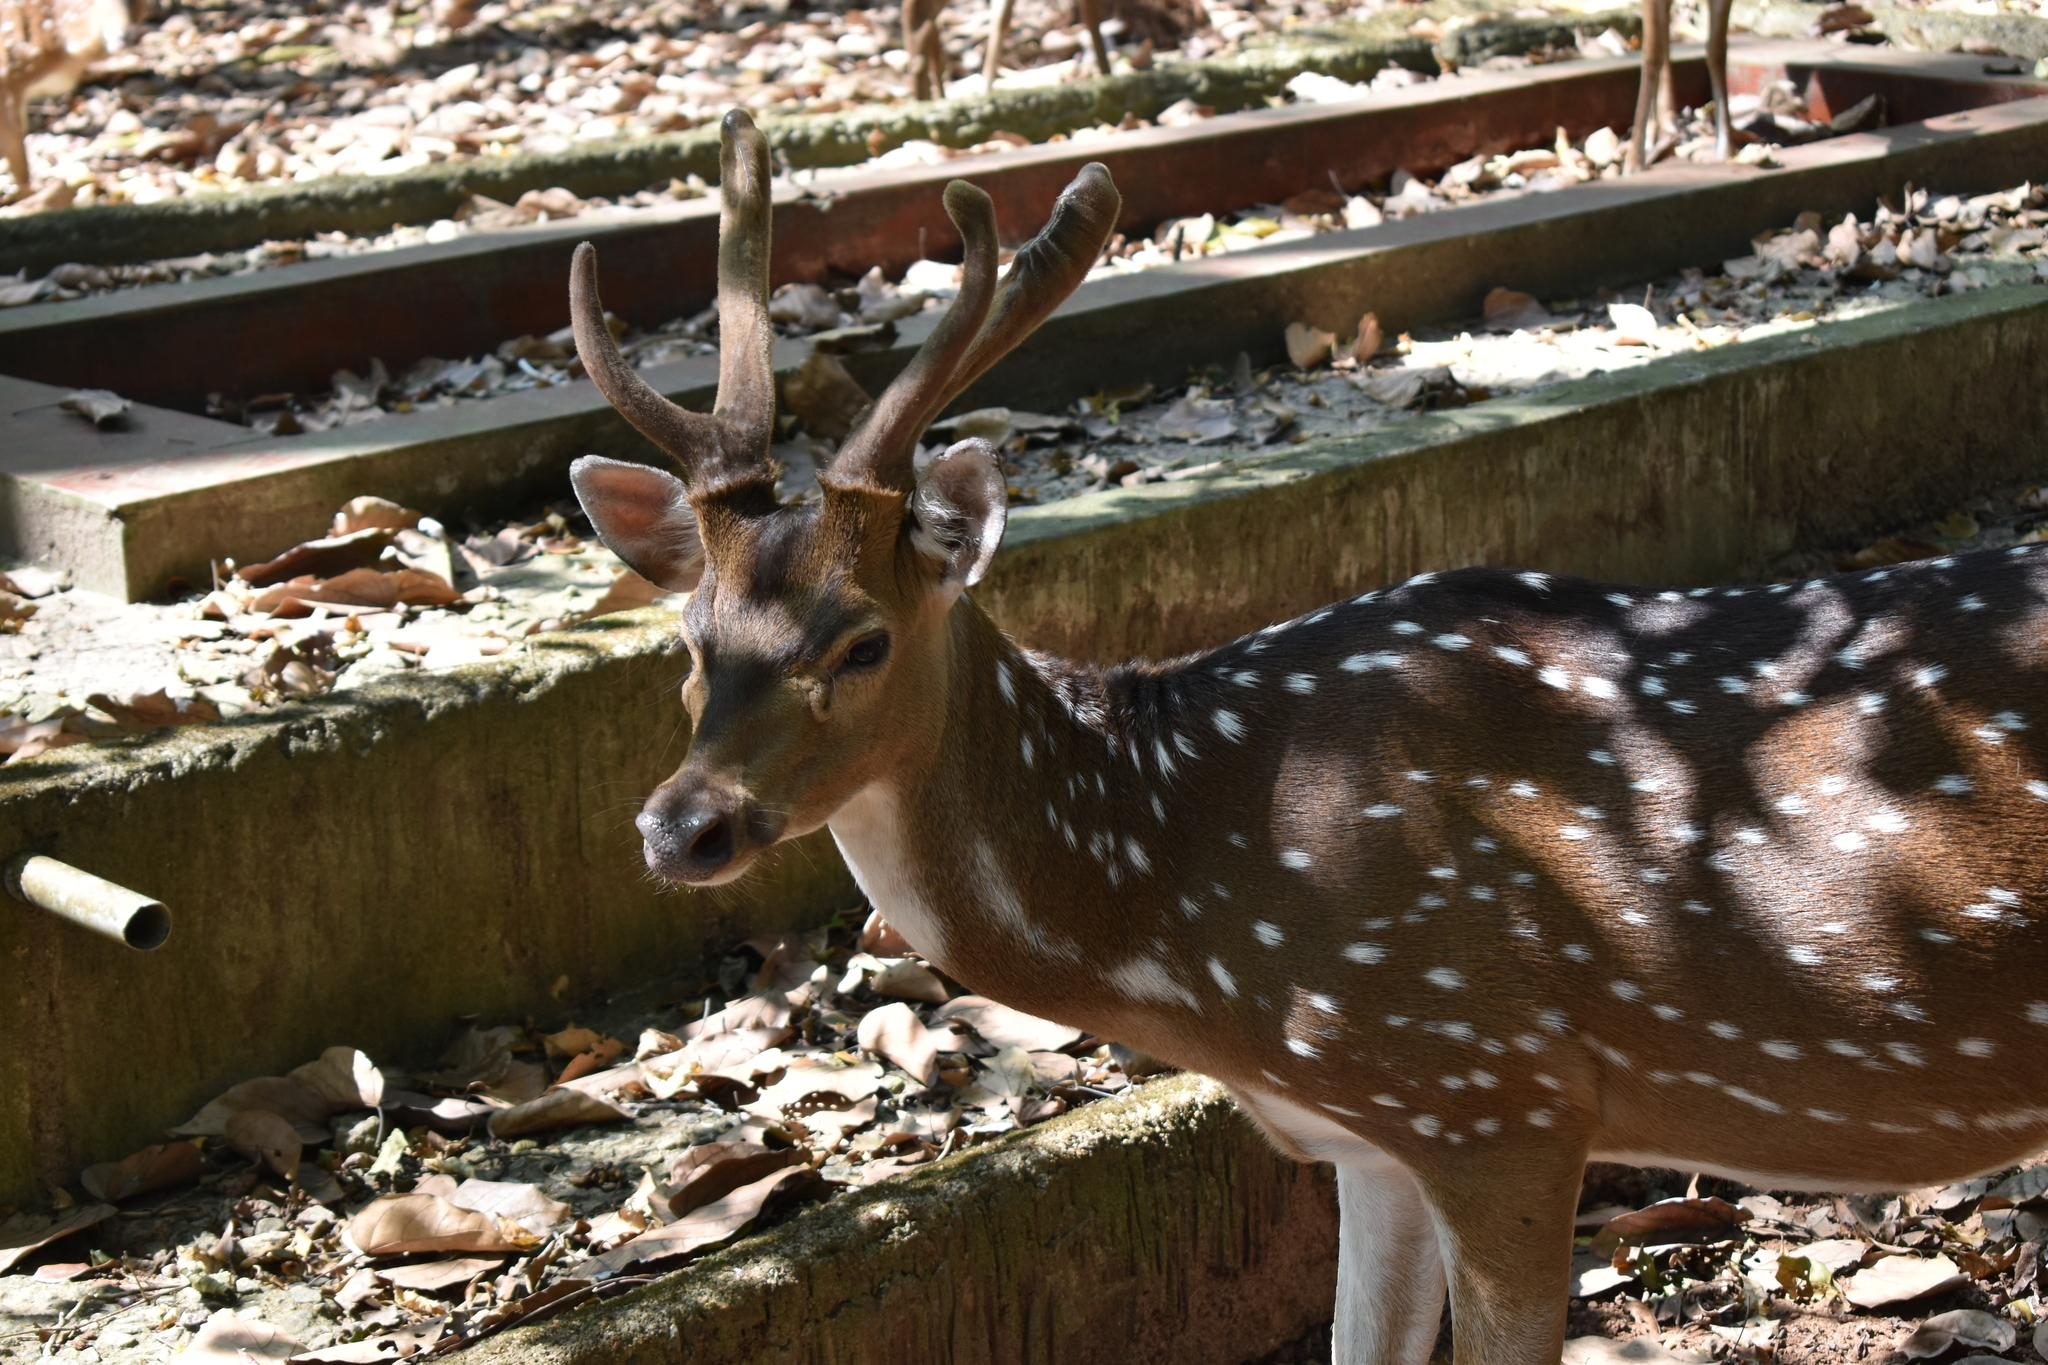Deer: (569, 113, 2046, 1360)
